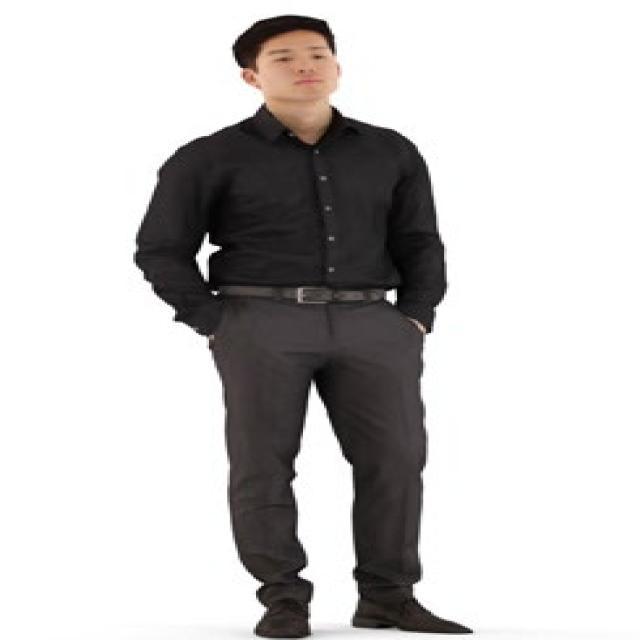standing: (130, 12, 472, 640)
